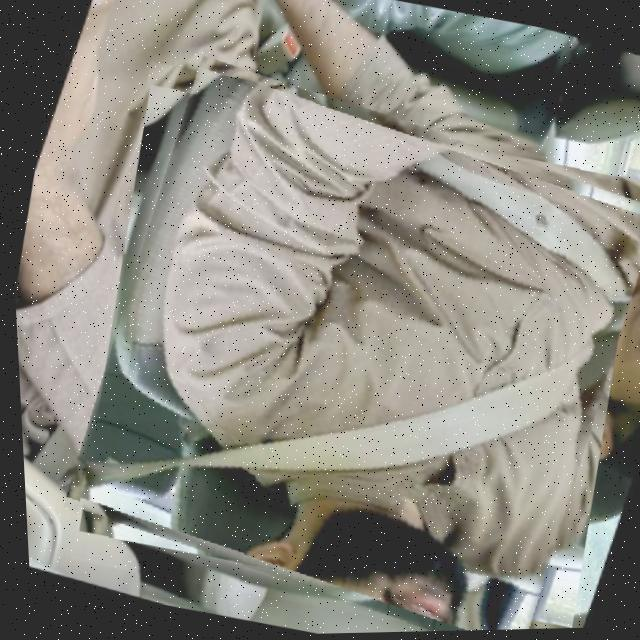seatbelt: (43, 53, 640, 639)
